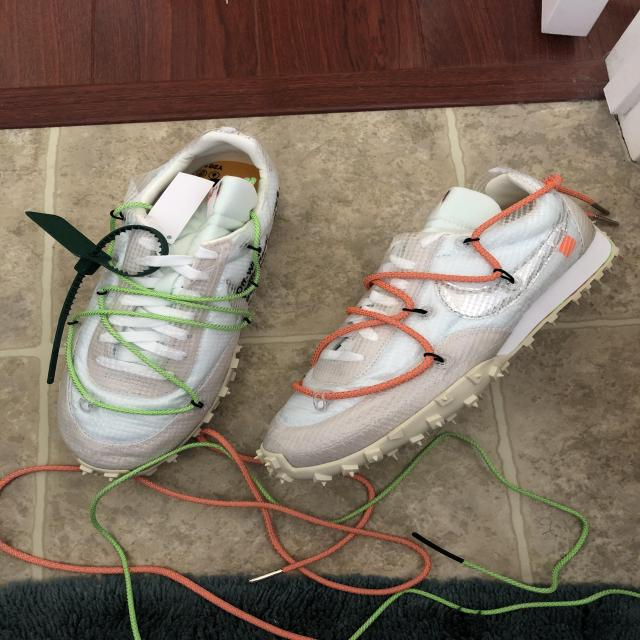shoe: (255, 160, 640, 514), (48, 121, 286, 503)
